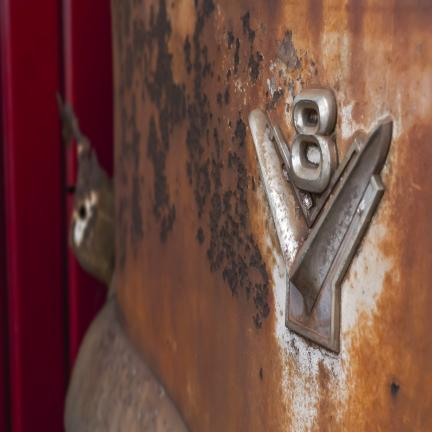besi_tidak_karat: (249, 88, 391, 352)
karat: (111, 2, 417, 430)
